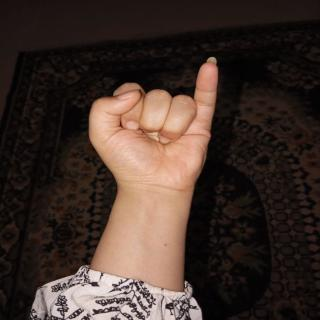MEEM: (77, 50, 228, 209)
